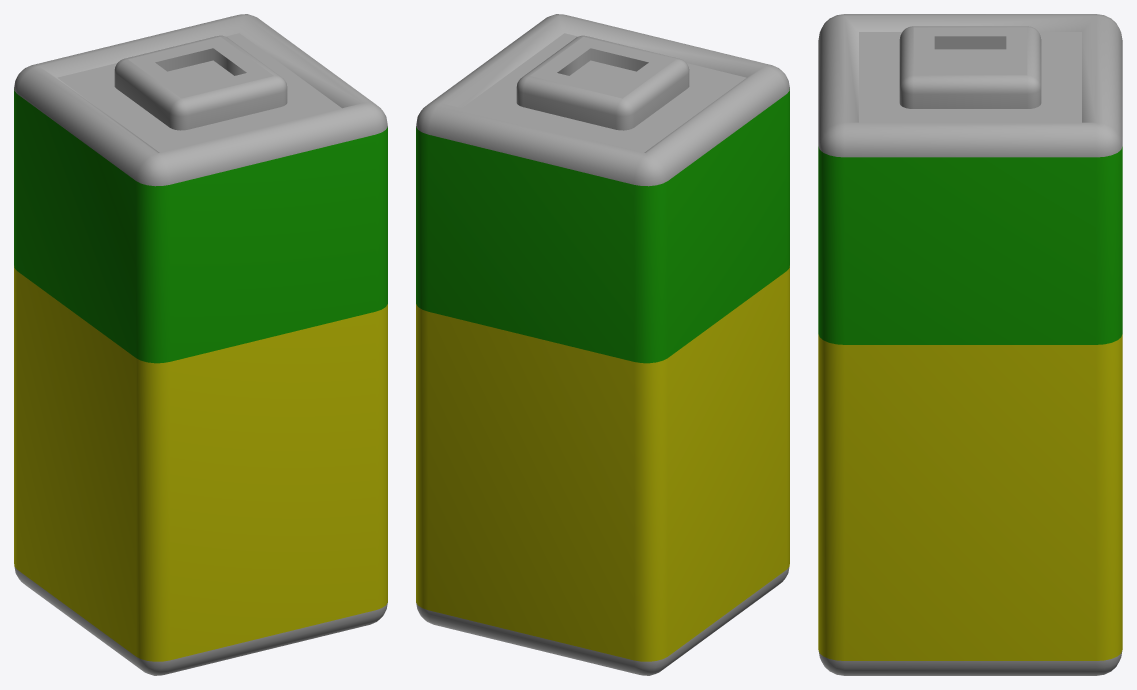
The model's file is NuclearBattery.fbx.
3 renders of one model, left to right at view 1: azimuth 30°, elevation 25°; view 2: azimuth 150°, elevation 25°; view 3: azimuth 270°, elevation 25°, orthographic. The views are drawn at different scales.
Visible parts, largest first — view 1: Cube; view 2: Cube; view 3: Cube.
Boxes of the visible parts, box(x1,y1,x2,y2) form: Cube: box(14, 14, 387, 675); Cube: box(416, 14, 789, 675); Cube: box(818, 14, 1122, 675).
Size of the model in its own units: 40 by 82.62 by 40.
